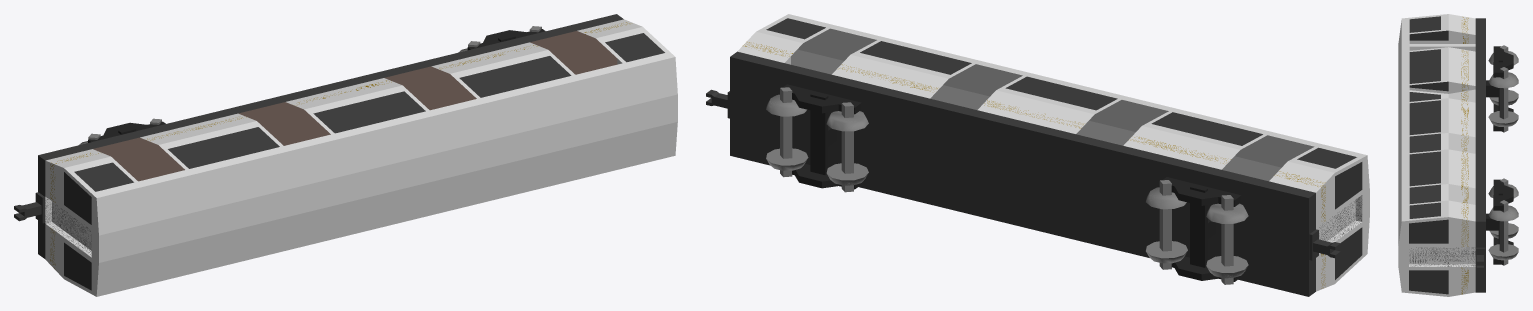
The model's file is subway_car_open.dae.
3 renders of one model, left to right at view 1: azimuth 30°, elevation 25°; view 2: azimuth 150°, elevation 25°; view 3: azimuth 270°, elevation 25°, orthographic. The views are drawn at different scales.
Parts seen in each view (by area): view 1: coords_ME_ID172_MA_Sub_car_part_1, coords_ME_ID452_MA_Floor, coords_ME_ID160_MA_Windows, coords_ME_ID240_MA_Windows, coords_ME_ID246_MA_Windows, coords_ME_ID296_MA_Windows, coords_ME_ID150_MA_Sub_car_part_1, coords_ME_ID460_MA_Windows, coords_ME_ID446_MA_Windows, coords_ME_ID178_MA_Windows, coords_ME_ID362_MA_Windows, coords_ME_ID118_MA_Frame (+1 smaller); view 2: coords_ME_ID160_MA_Windows, coords_ME_ID172_MA_Sub_car_part_1, coords_ME_ID240_MA_Windows, coords_ME_ID296_MA_Windows, coords_ME_ID246_MA_Windows, coords_ME_ID44_MA_Frame, coords_ME_ID130_MA_Frame, coords_ME_ID150_MA_Sub_car_part_1, coords_ME_ID118_MA_Frame, coords_ME_ID52_MA_Frame, coords_ME_ID362_MA_Windows, coords_ME_ID25_MA_Wheels (+24 smaller); view 3: coords_ME_ID172_MA_Sub_car_part_1, coords_ME_ID160_MA_Windows, coords_ME_ID166_MA_Sub_car_part_1, coords_ME_ID240_MA_Windows, coords_ME_ID246_MA_Windows, coords_ME_ID296_MA_Windows, coords_ME_ID314_MA_Windows, coords_ME_ID308_MA_Windows, coords_ME_ID338_MA_Windows, coords_ME_ID380_MA_Windows, coords_ME_ID52_MA_Frame, coords_ME_ID118_MA_Frame (+43 smaller).
Boxes of the visible parts, <box> form: coords_ME_ID172_MA_Sub_car_part_1: <box>55,23,677,296</box>; coords_ME_ID452_MA_Floor: <box>93,31,617,181</box>; coords_ME_ID160_MA_Windows: <box>38,14,623,258</box>; coords_ME_ID240_MA_Windows: <box>313,91,425,133</box>; coords_ME_ID246_MA_Windows: <box>168,127,279,168</box>; coords_ME_ID296_MA_Windows: <box>459,56,571,97</box>; coords_ME_ID150_MA_Sub_car_part_1: <box>45,196,91,257</box>; coords_ME_ID460_MA_Windows: <box>605,33,664,62</box>; coords_ME_ID446_MA_Windows: <box>74,162,133,191</box>; coords_ME_ID178_MA_Windows: <box>64,242,91,290</box>; coords_ME_ID362_MA_Windows: <box>64,172,91,224</box>; coords_ME_ID118_MA_Frame: <box>88,121,165,142</box>; coords_ME_ID160_MA_Windows: <box>730,51,1315,296</box>; coords_ME_ID172_MA_Sub_car_part_1: <box>747,14,1369,287</box>; coords_ME_ID240_MA_Windows: <box>1005,76,1117,110</box>; coords_ME_ID296_MA_Windows: <box>860,41,971,74</box>; coords_ME_ID246_MA_Windows: <box>1151,112,1262,145</box>; coords_ME_ID44_MA_Frame: <box>810,92,836,174</box>; coords_ME_ID130_MA_Frame: <box>1190,185,1216,267</box>; coords_ME_ID150_MA_Sub_car_part_1: <box>1316,195,1362,253</box>; coords_ME_ID118_MA_Frame: <box>1162,177,1241,206</box>; coords_ME_ID52_MA_Frame: <box>783,84,861,114</box>; coords_ME_ID362_MA_Windows: <box>1335,162,1362,209</box>; coords_ME_ID25_MA_Wheels: <box>841,102,853,192</box>; coords_ME_ID172_MA_Sub_car_part_1: <box>1398,14,1461,296</box>; coords_ME_ID160_MA_Windows: <box>1475,18,1485,292</box>; coords_ME_ID166_MA_Sub_car_part_1: <box>1409,247,1475,266</box>; coords_ME_ID240_MA_Windows: <box>1409,100,1440,134</box>; coords_ME_ID246_MA_Windows: <box>1409,49,1440,83</box>; coords_ME_ID296_MA_Windows: <box>1409,151,1440,186</box>; coords_ME_ID314_MA_Windows: <box>1409,270,1448,294</box>; coords_ME_ID308_MA_Windows: <box>1409,219,1448,243</box>; coords_ME_ID338_MA_Windows: <box>1409,133,1440,152</box>; coords_ME_ID380_MA_Windows: <box>1409,184,1440,203</box>; coords_ME_ID52_MA_Frame: <box>1493,179,1513,210</box>; coords_ME_ID118_MA_Frame: <box>1493,46,1513,77</box>.
Size of the model in its own units: 193 by 32.54 by 44.37.
